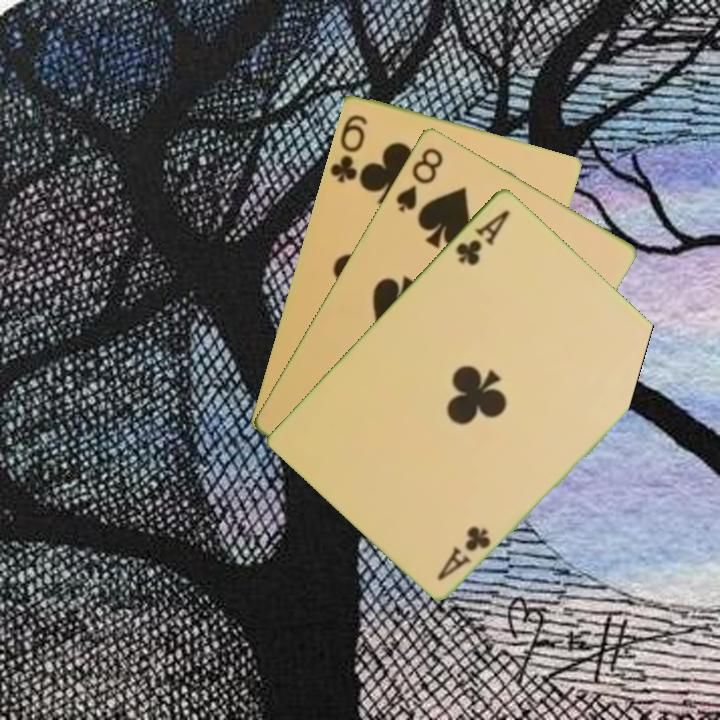6c: (326, 110, 370, 185)
8s: (392, 143, 446, 215)
Ac: (452, 205, 513, 269), (433, 521, 494, 583)
